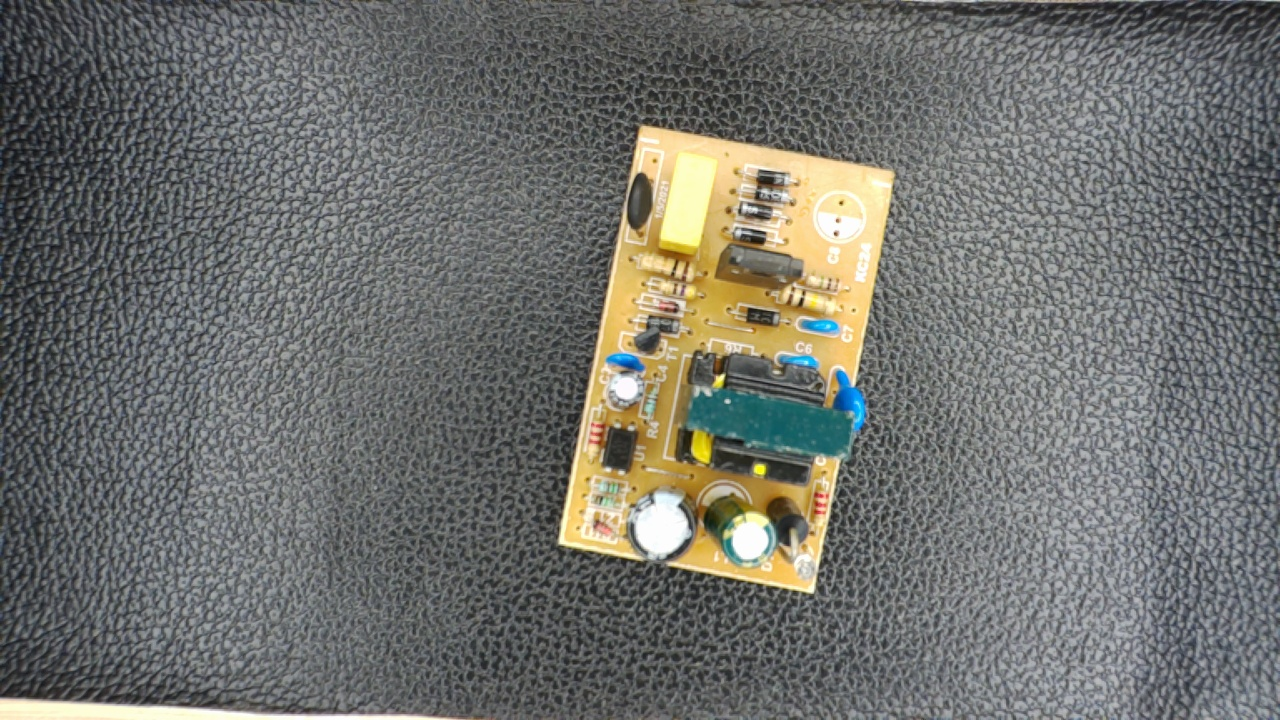fuse: (624, 156, 659, 251)
mov: (827, 363, 869, 446)
optocoupler: (602, 414, 641, 479)
